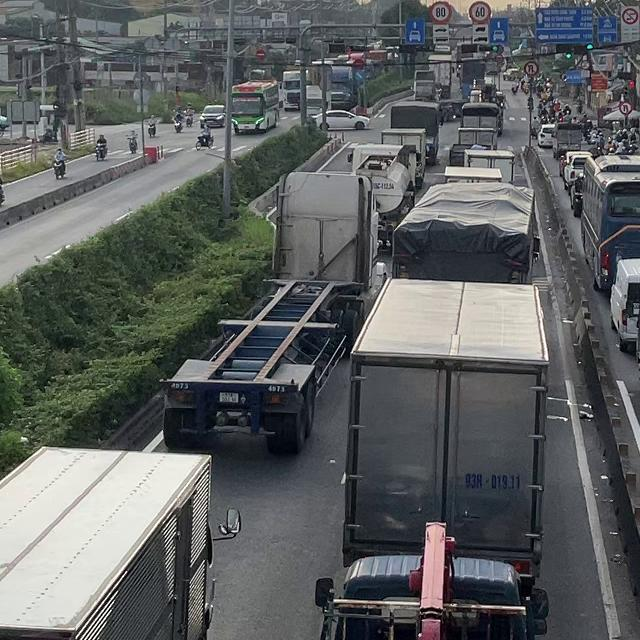bus: (579, 152, 639, 290), (230, 79, 279, 134)
car: (560, 150, 593, 190), (310, 109, 371, 130), (199, 104, 225, 127), (537, 123, 555, 147)
motorcycle: (195, 123, 214, 149), (51, 155, 66, 179), (125, 130, 137, 154), (94, 141, 107, 161), (172, 116, 182, 132), (183, 112, 193, 127), (147, 122, 155, 137)
truck: (152, 169, 390, 455), (341, 276, 550, 579), (0, 444, 240, 639), (314, 521, 548, 639), (389, 180, 538, 282), (345, 145, 418, 216), (390, 101, 441, 165), (609, 257, 639, 353), (380, 128, 426, 188), (462, 148, 515, 183), (460, 101, 503, 137), (552, 122, 583, 159), (443, 165, 502, 183), (457, 126, 498, 148)
